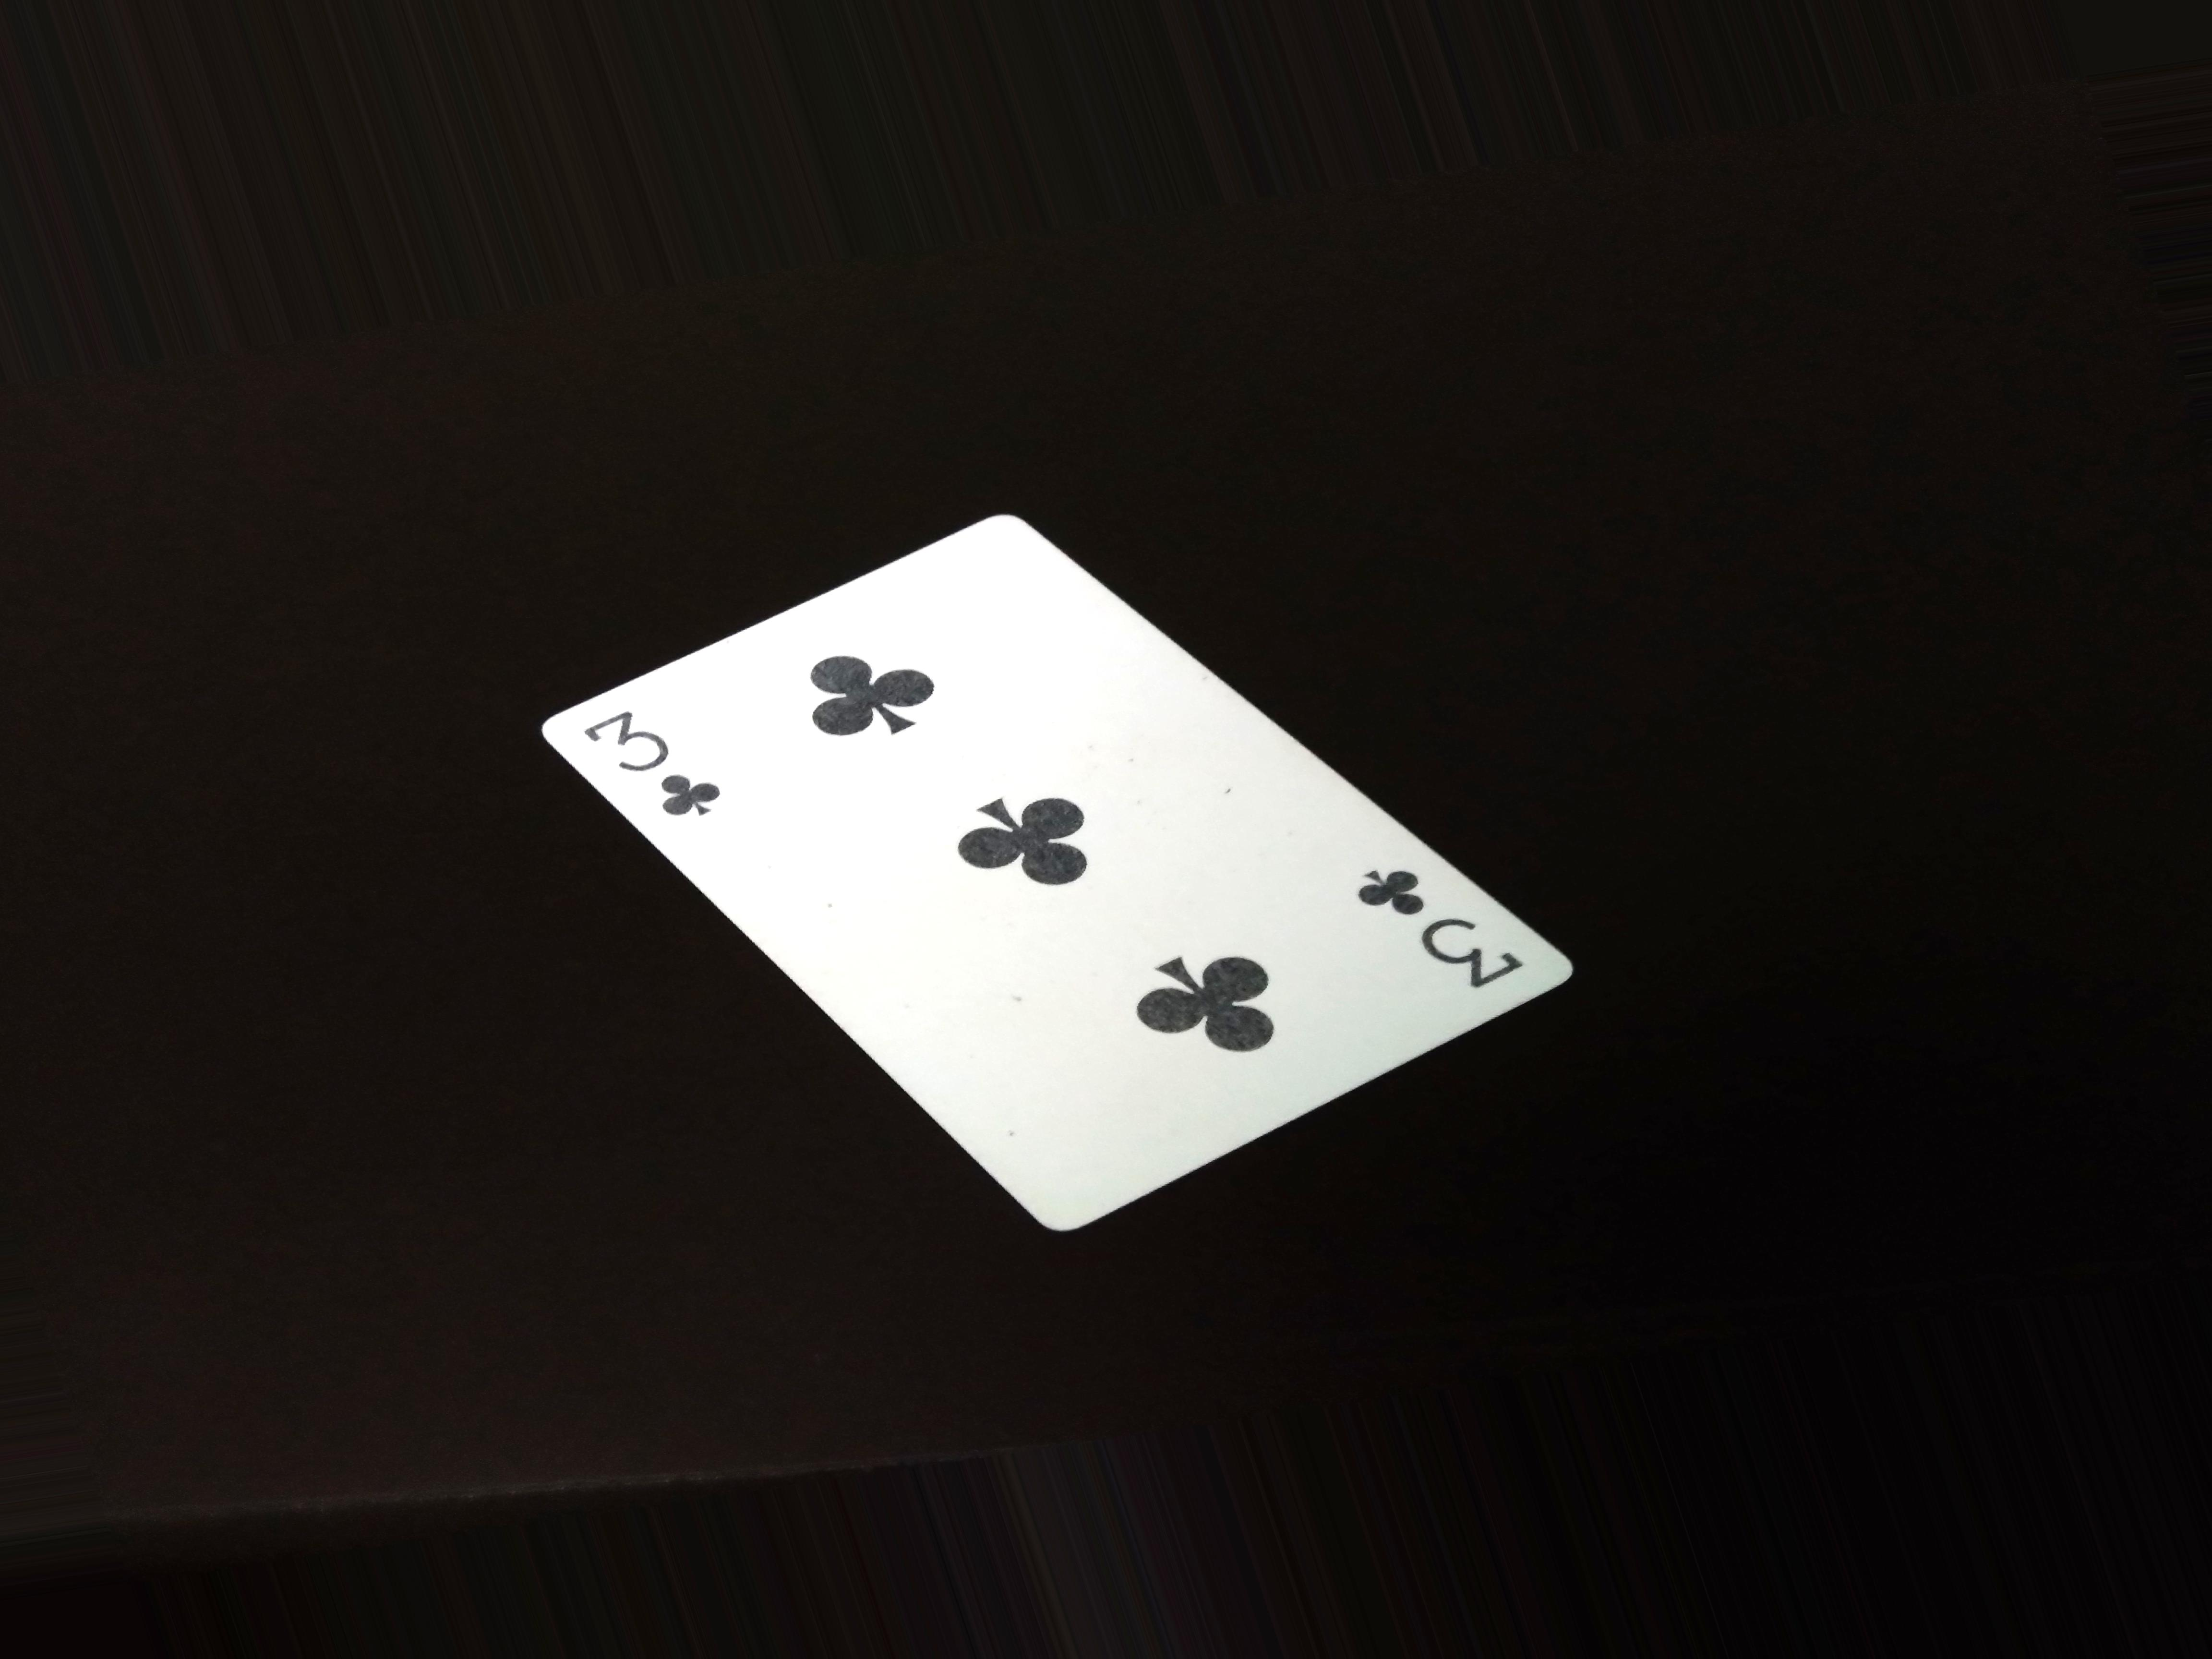3C: (1339, 852, 1543, 999)
